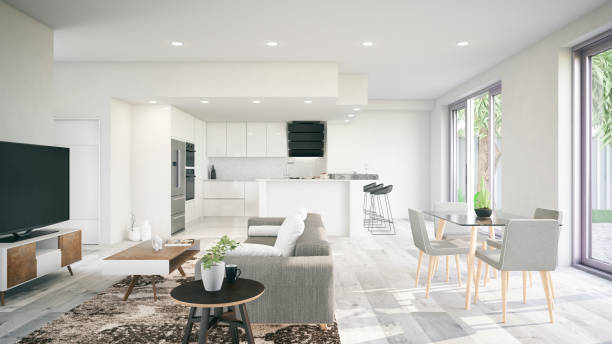TV: (0, 138, 70, 240)
TV stand: (0, 228, 83, 306)
dining table set: (406, 199, 562, 327)
side table: (171, 276, 267, 344)
small plant: (196, 234, 240, 291), (472, 187, 495, 220)
sofa: (193, 209, 338, 335)
table: (100, 239, 198, 301)
